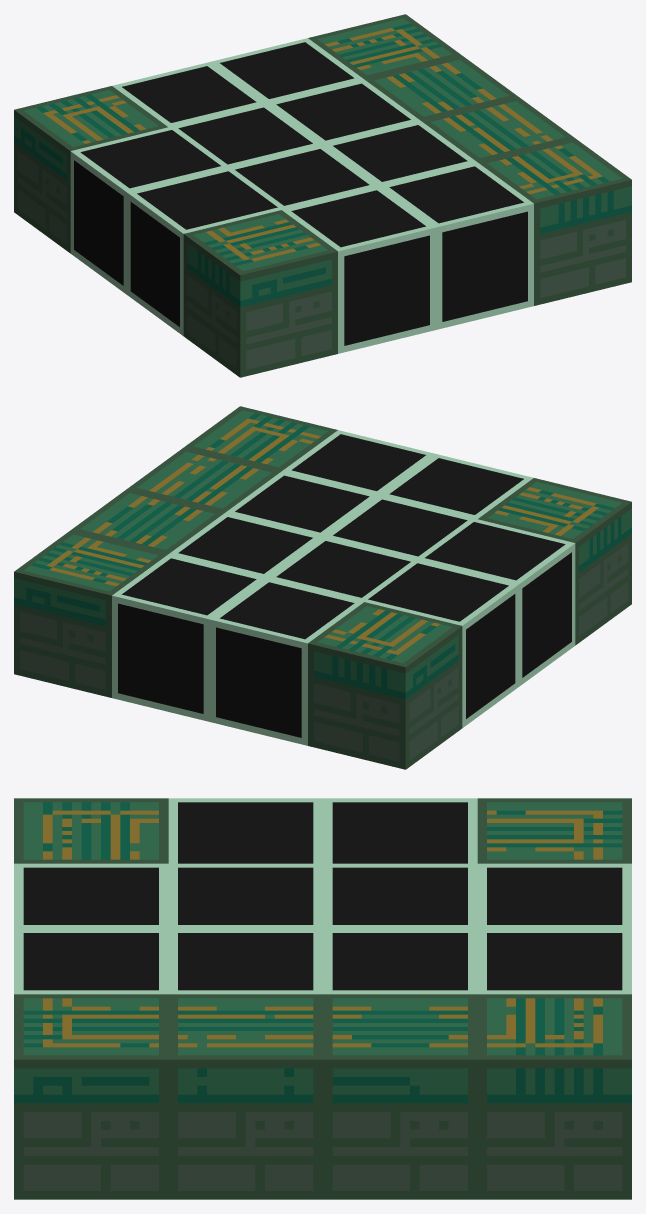
The model's file is m_tiles_11_4x4.fbx.
3 views of the same model, one above another, from view 1: azimuth 30°, elevation 25°; view 2: azimuth 150°, elevation 25°; view 3: azimuth 270°, elevation 25° (orthographic). The views are drawn at different scales.
Parts seen in each view (by area): view 1: m_tiles_11_4x4; view 2: m_tiles_11_4x4; view 3: m_tiles_11_4x4.
Part boxes in pixels (x1,y1,x2,y2): m_tiles_11_4x4: (14, 14, 631, 377); m_tiles_11_4x4: (14, 406, 631, 769); m_tiles_11_4x4: (14, 798, 631, 1199).
Bounding box in the file's own units: 6.4 × 1.6 × 6.4.
Materials: 1 (1 with a texture image).
